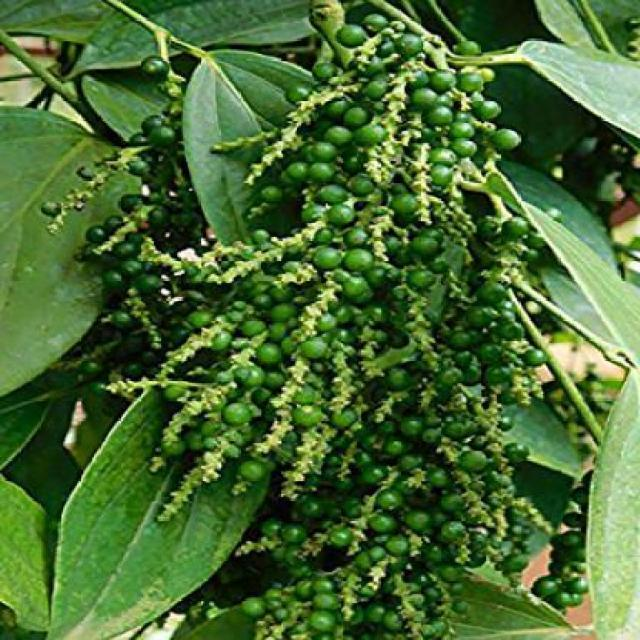UNRIPE: (228, 30, 510, 628)
